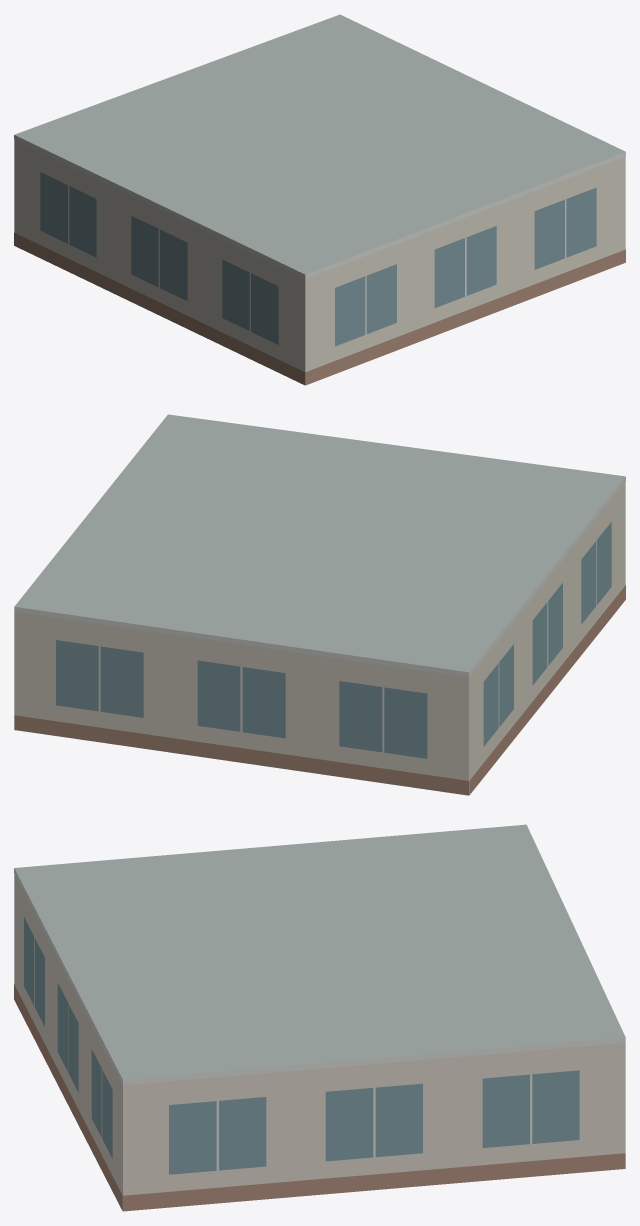
The model's file is survey-upis-33021001.glb.
3 views of the same model, one above another, from view 1: azimuth 30°, elevation 25°; view 2: azimuth 150°, elevation 25°; view 3: azimuth 270°, elevation 25° (orthographic). The views are drawn at different scales.
Visible parts, largest first — view 1: survey-upis-33021001.tmp; view 2: survey-upis-33021001.tmp; view 3: survey-upis-33021001.tmp.
Part boxes in pixels (<box>): survey-upis-33021001.tmp: <box>14,14,625,385</box>; survey-upis-33021001.tmp: <box>14,414,625,795</box>; survey-upis-33021001.tmp: <box>14,824,625,1211</box>.
Size of the model in its own units: 12.72 by 3.05 by 12.87.
